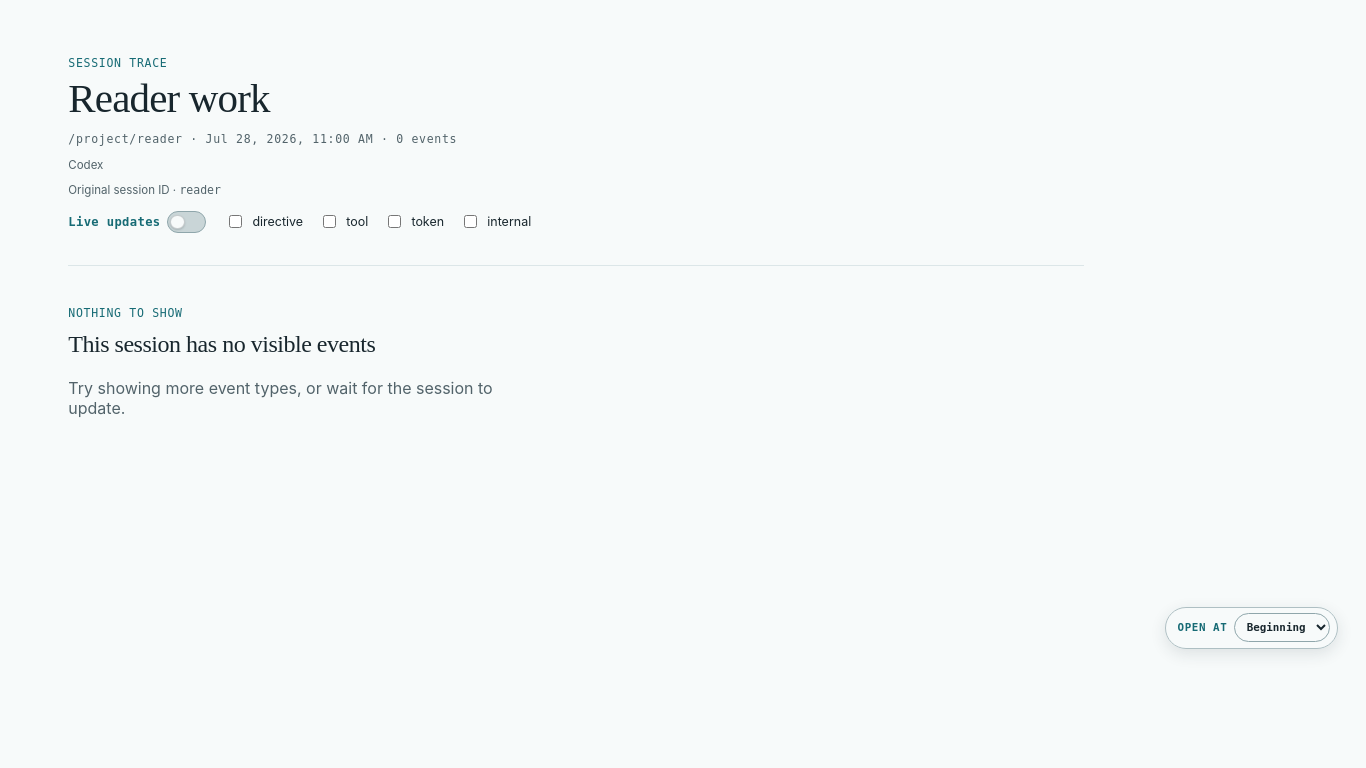
session Live updates › backs off retryable failures and stops on terminal 4xx responses
Click the switch named "Live updates". click: click(186, 222)
box: [167, 211, 206, 233]
Wait 61000 ms
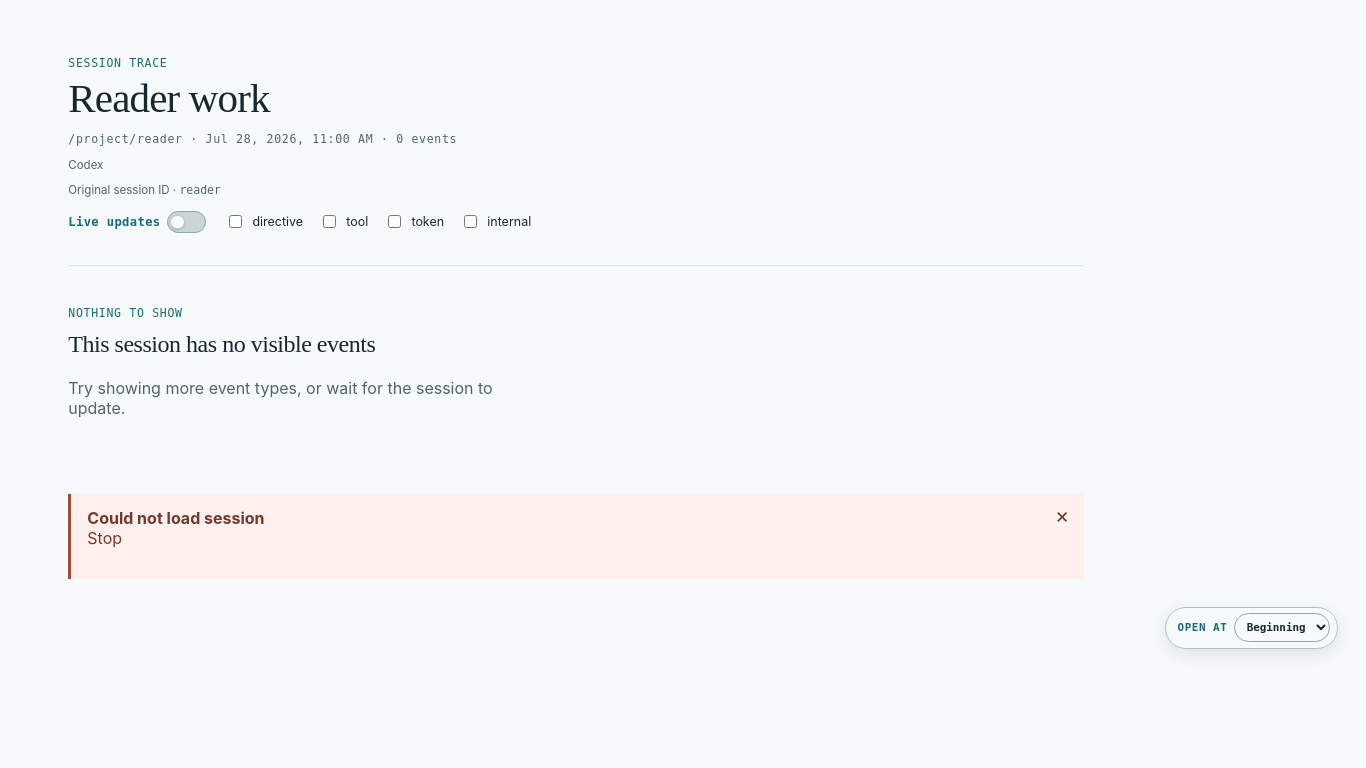
Check: the text "Stop" is shown, box [87, 528, 122, 548]
